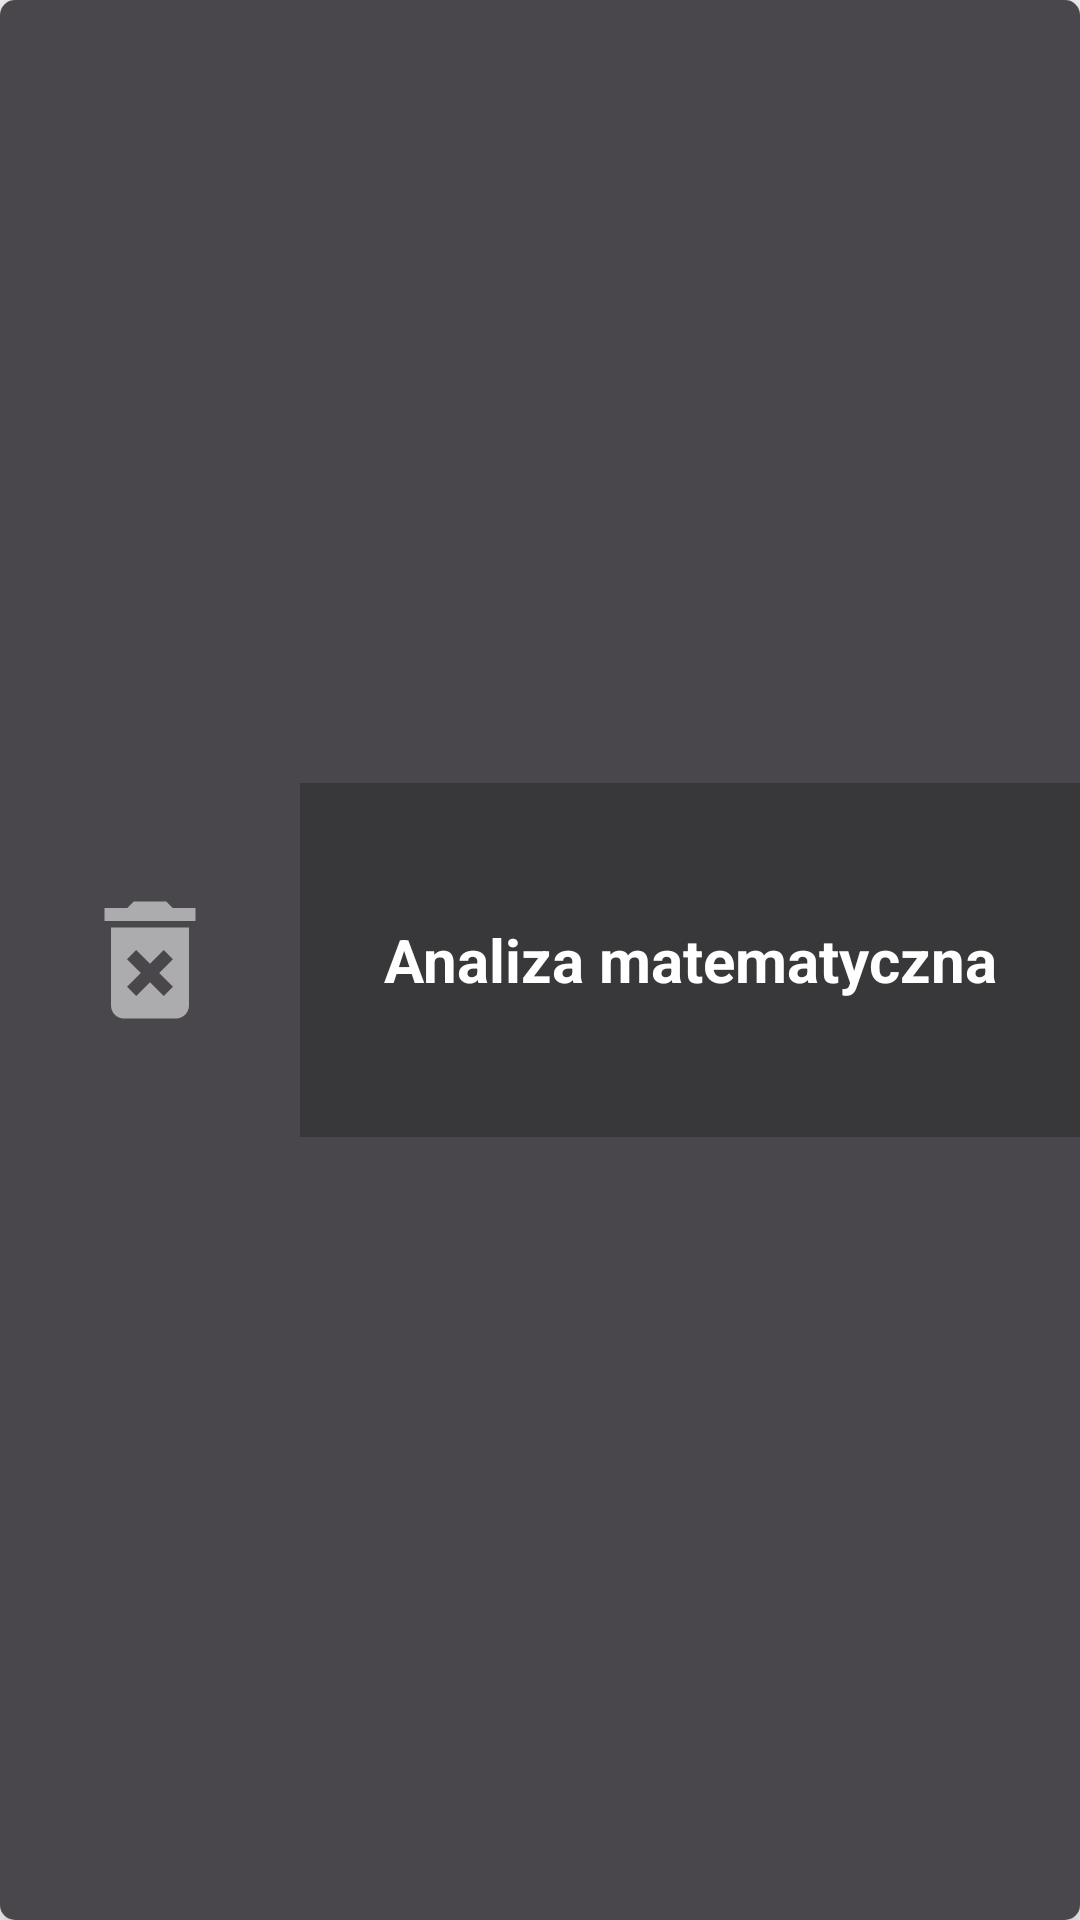

Icon click points for this 1080px x 1920px phone screenshot, format (x,y):
delete: (150,960)
